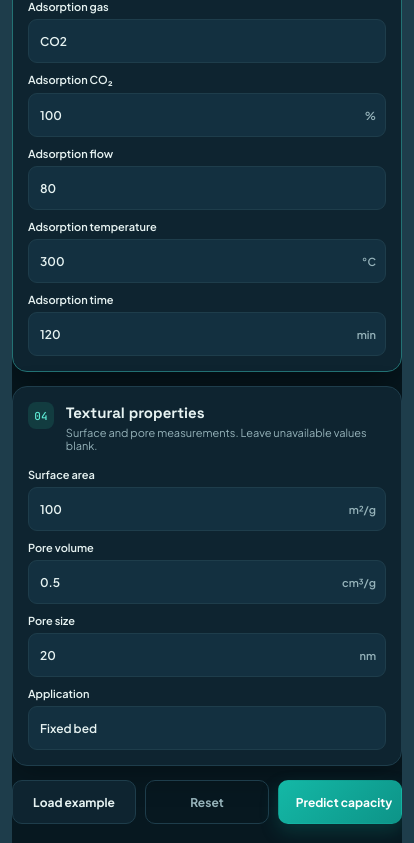
Test: page interactions › shows calibrated interval, confidence badge and additive Tree SHAP in mg/g
(page scrolled)
What coordinates should you click on to do the following:
click the button "Predict capacity"
I would click on:
 (340, 802)
Its box is [278, 780, 402, 824].
(page scrolled)
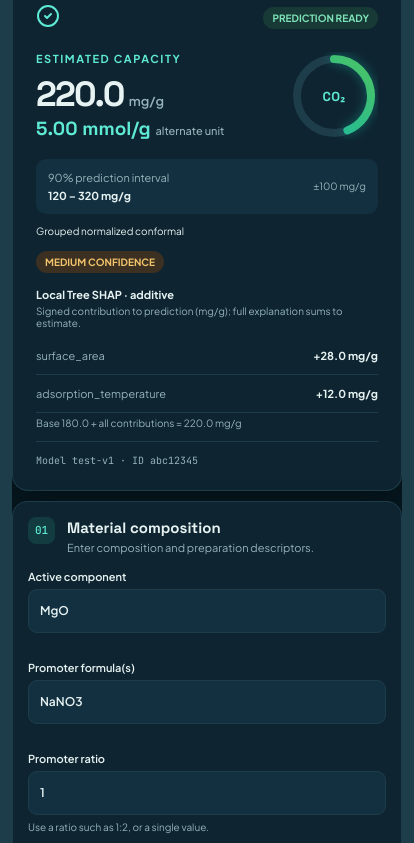
expect the text "220.0" is shown: met, box [36, 72, 124, 116]
expect the text "120 – 320 mg/g" is shown: met, box [48, 189, 131, 202]
expect the text "MEDIUM CONFIDENCE" is shown: met, box [36, 251, 164, 273]
